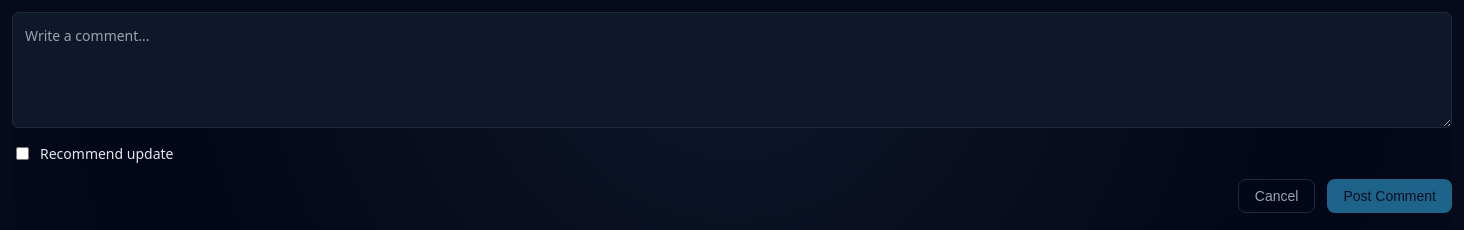
Test: CommentForm › enables submit button when content is entered
The width and height of the screenshot is (1464, 230).
Type "Test" into the text box with placeholder "Write a comment..." at (732, 70), box [12,12,1452,128]
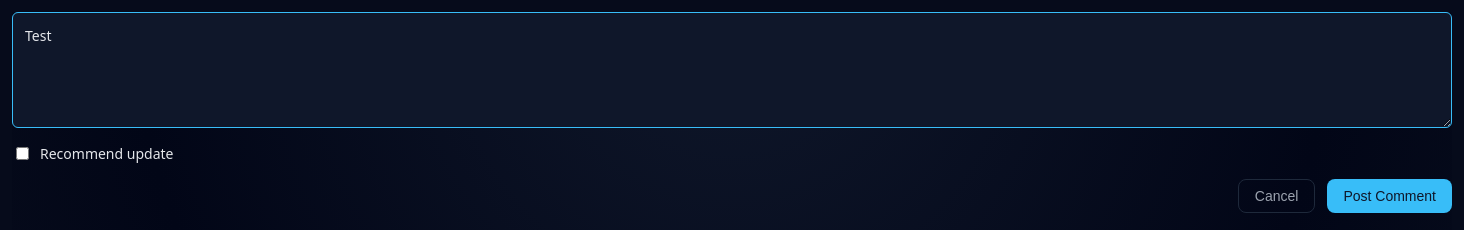
Expected: the button "Post Comment" is enabled, [1327,179,1452,213]
